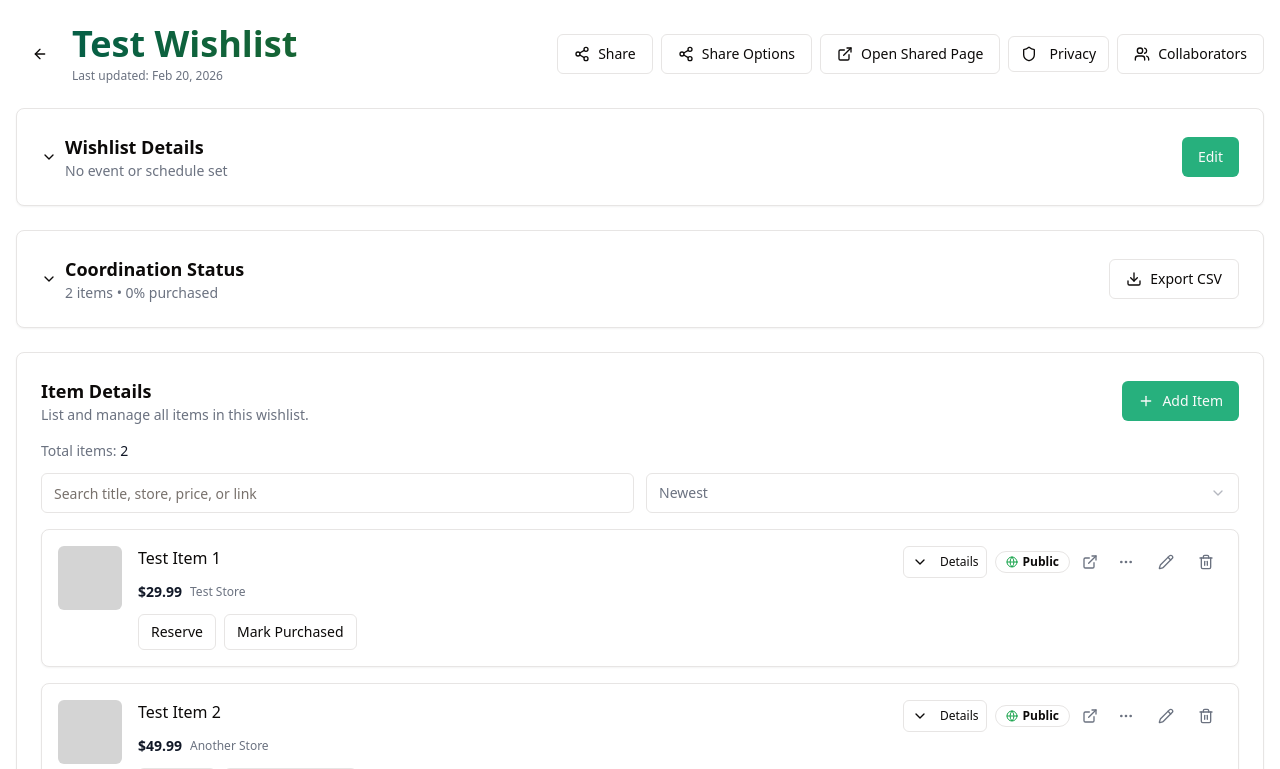
Test: WishlistDetail Item CRUD › copies shared wishlist link from header share action
The width and height of the screenshot is (1280, 769).
Click the button with test id "wishlist-detail-share" at (605, 54), box [557,34,653,74]
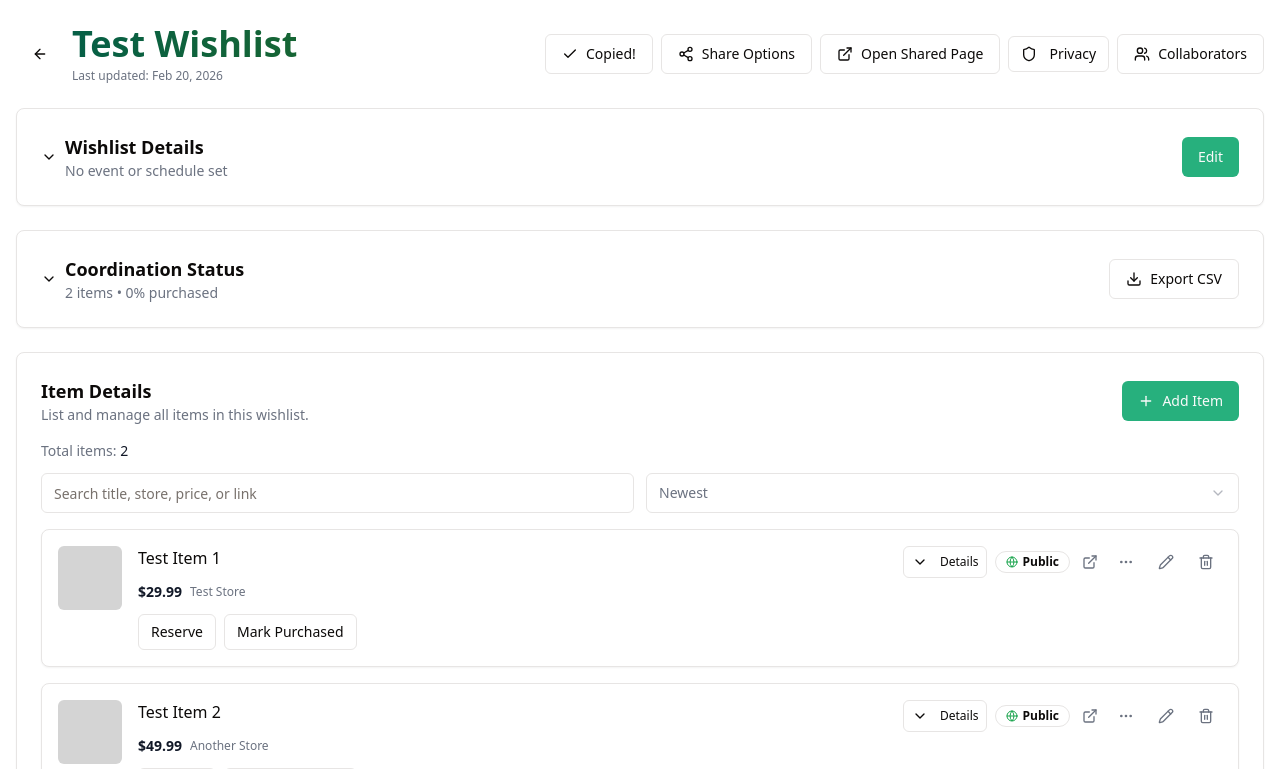
expect the button with test id "wishlist-detail-share" reads "Copied!": met, box [545,34,653,74]
